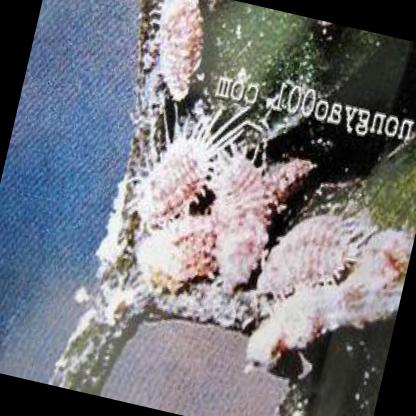mealy bug: (129, 111, 250, 228), (260, 205, 369, 295), (148, 210, 217, 283), (156, 0, 203, 95), (210, 147, 267, 221)
